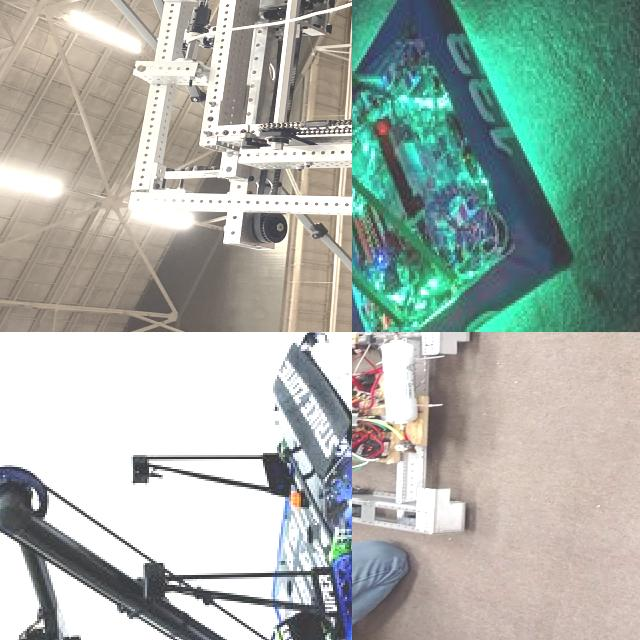FRC-Robots: (0, 343, 352, 640), (352, 0, 588, 332), (352, 332, 472, 538)
